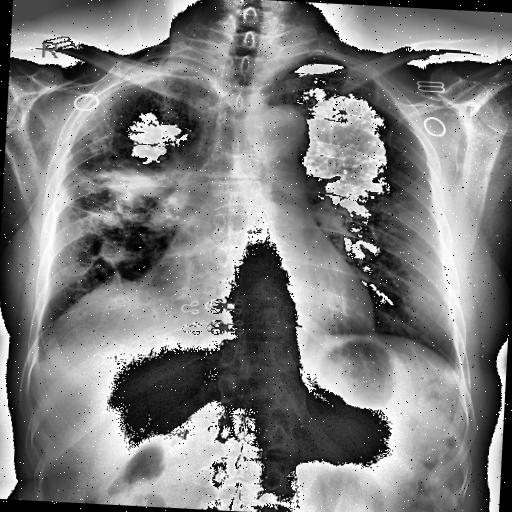0- Aortic enlargement: (254, 100, 312, 149), (246, 105, 308, 149)
11- Pleural thickening: (107, 51, 220, 93), (102, 56, 188, 84), (106, 270, 129, 284)
13- Pulmonary fibrosis: (44, 94, 204, 292), (36, 125, 158, 287)
4- Consolidation: (54, 160, 188, 230), (95, 162, 194, 230)
6- Infiltration: (44, 94, 204, 292), (36, 125, 158, 287)
7- Lung Opacity: (54, 160, 188, 230), (102, 56, 188, 84), (98, 236, 128, 264)
8- Nodule-Mass: (98, 236, 128, 264), (96, 238, 128, 264)
